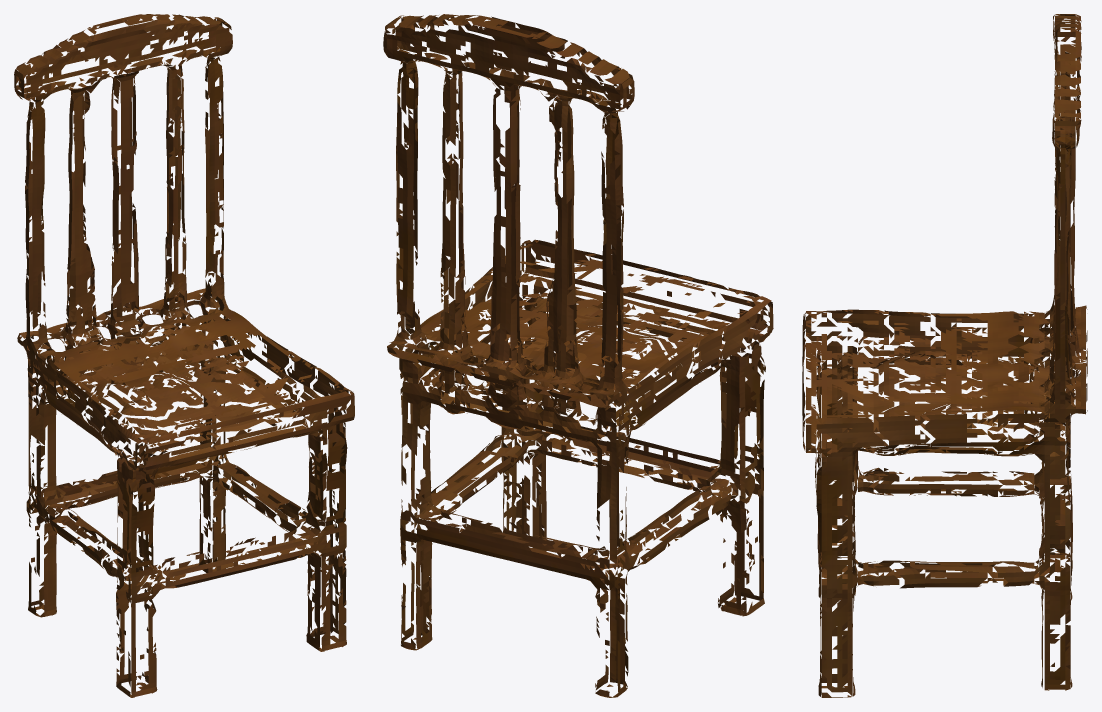
The model's file is r3d_word_shap_e.glb.
3 renders of one model, left to right at view 1: azimuth 30°, elevation 25°; view 2: azimuth 150°, elevation 25°; view 3: azimuth 270°, elevation 25°, orthographic. The views are drawn at different scales.
Parts seen in each view (by area): view 1: wooden_chair; view 2: wooden_chair; view 3: wooden_chair.
Part boxes in pixels (left/top/right/bottom): wooden_chair: left=14, top=14, right=354, bottom=697; wooden_chair: left=383, top=14, right=773, bottom=697; wooden_chair: left=802, top=14, right=1087, bottom=697.
Size of what is drawn, in the model's own units: 0.363 by 0.9 by 0.388.
